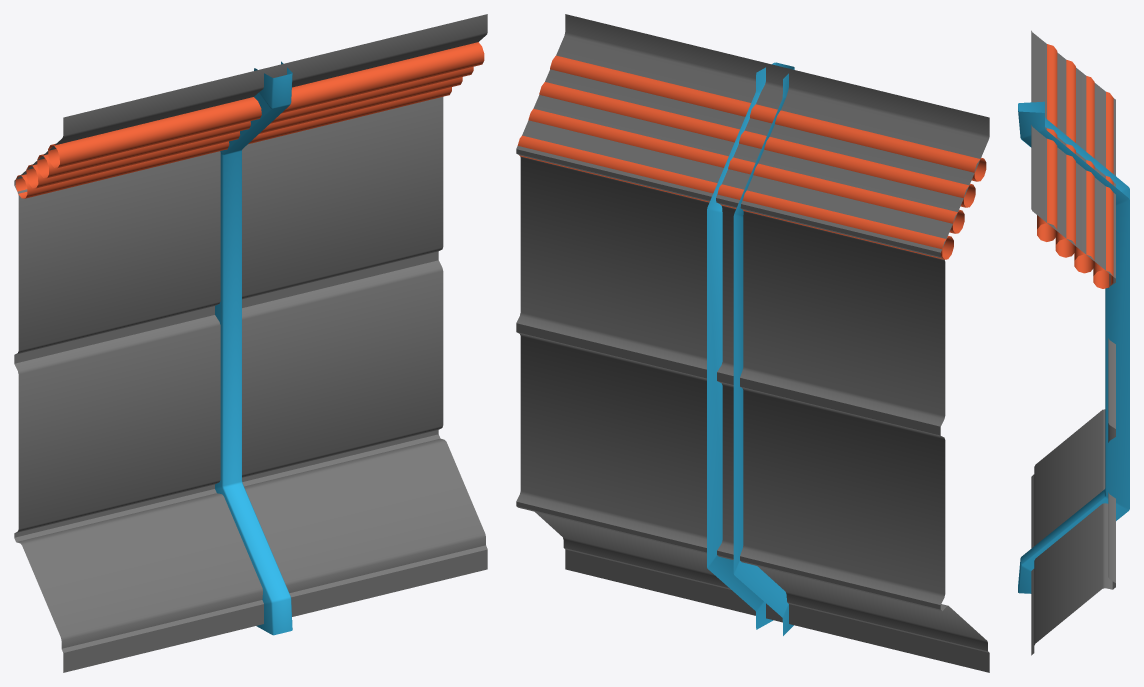
File: WallA.FBX
3 views of the same model, side by side, from view 1: azimuth 30°, elevation 25°; view 2: azimuth 150°, elevation 25°; view 3: azimuth 270°, elevation 25° (orthographic). The views are drawn at different scales.
Visible parts, largest first — view 1: WallA; view 2: WallA; view 3: WallA.
Boxes of the visible parts, left/top/right/bottom form: WallA: left=14, top=14, right=487, bottom=672; WallA: left=516, top=14, right=989, bottom=672; WallA: left=1018, top=30, right=1129, bottom=655.
Size of the model in its own units: 200 by 253 by 52.78.
